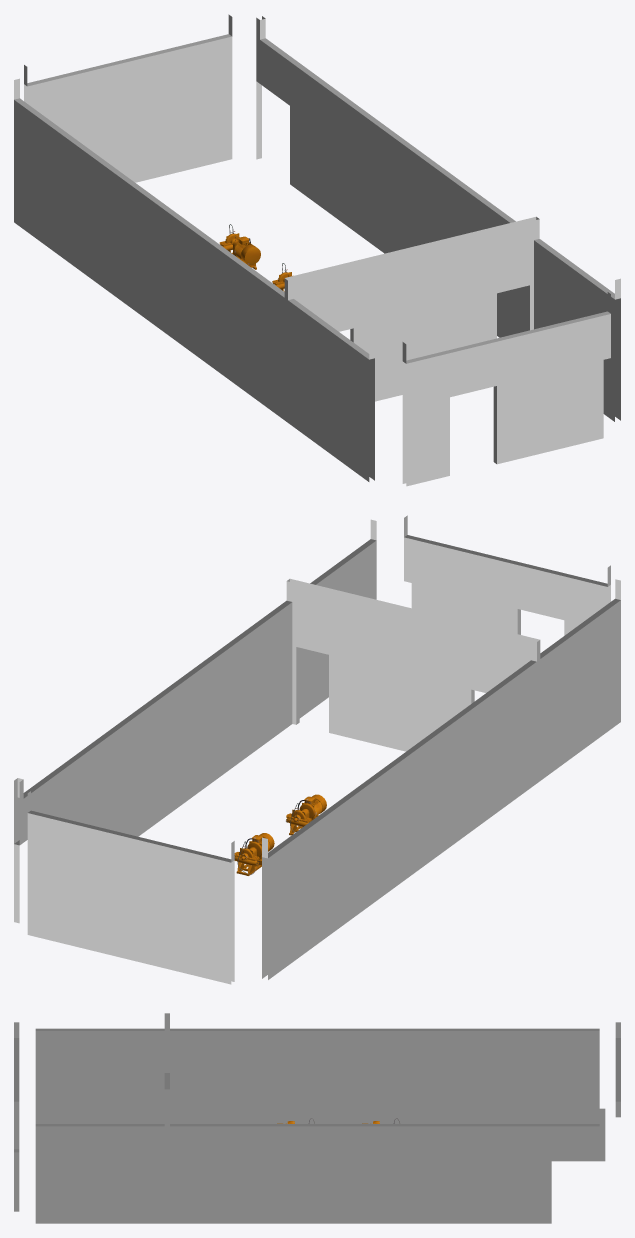
The model's file is export-engine.DAE.
3 views of the same model, one above another, from view 1: azimuth 30°, elevation 25°; view 2: azimuth 150°, elevation 25°; view 3: azimuth 270°, elevation 25° (orthographic). The views are drawn at different scales.
Parts seen in each view (by area): view 1: A001_wall, A033_ins3_; view 2: A001_wall, A033_ins3_, A033_ins1_; view 3: A001_wall.
Part boxes in pixels (bbox=[...]): A001_wall: bbox=[14, 14, 620, 486]; A033_ins3_: bbox=[219, 224, 260, 269]; A001_wall: bbox=[14, 515, 620, 984]; A033_ins3_: bbox=[234, 833, 274, 875]; A033_ins1_: bbox=[286, 794, 326, 835]; A001_wall: bbox=[14, 1013, 620, 1223].
Size of what is drawn, in the model's own units: 107 by 282 by 58.
